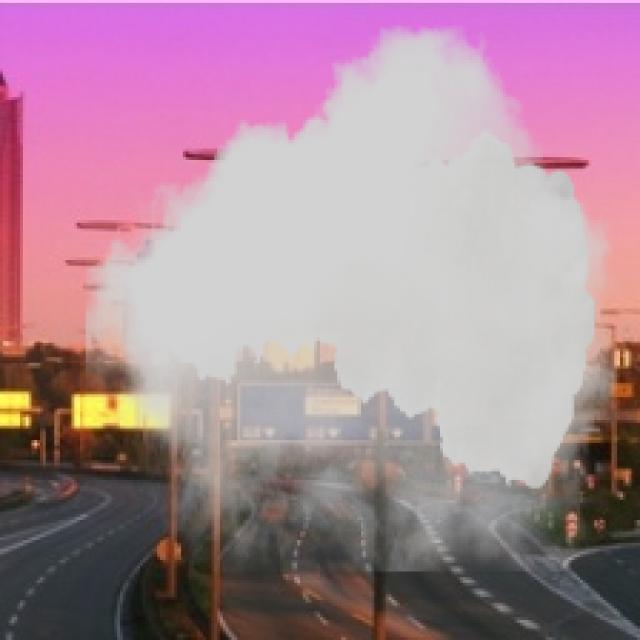smoke: (86, 26, 620, 571)
